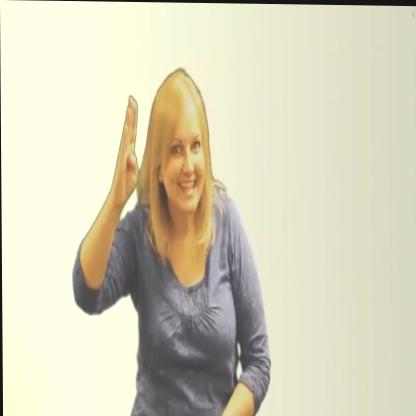Hello: (103, 46, 230, 250)
